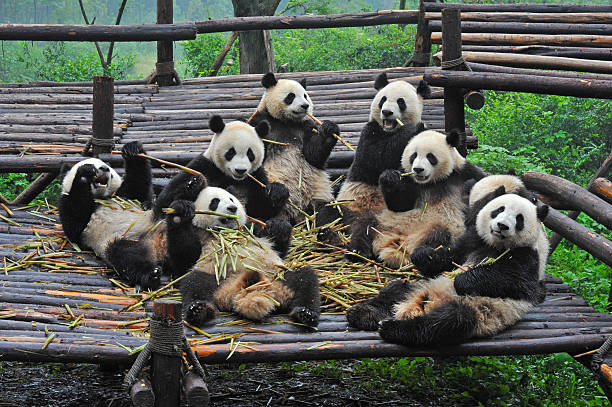panda: (478, 188, 553, 263), (393, 124, 471, 191), (371, 70, 440, 143), (204, 114, 276, 178), (254, 66, 323, 129)
